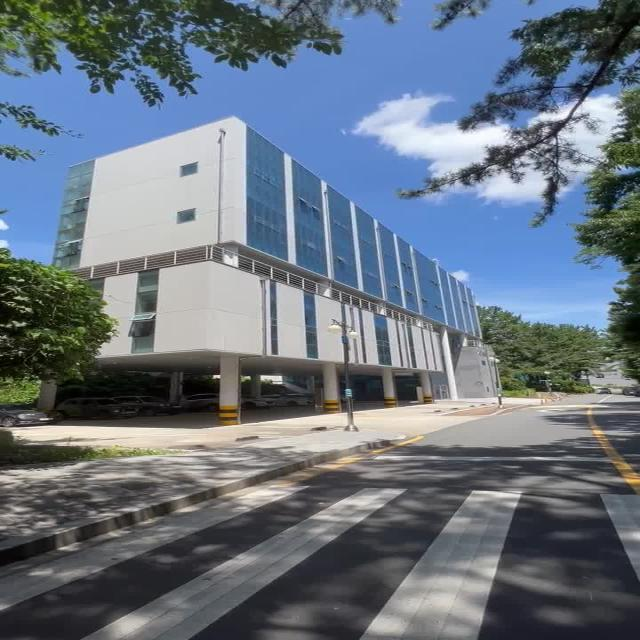building: (58, 142, 524, 405)
